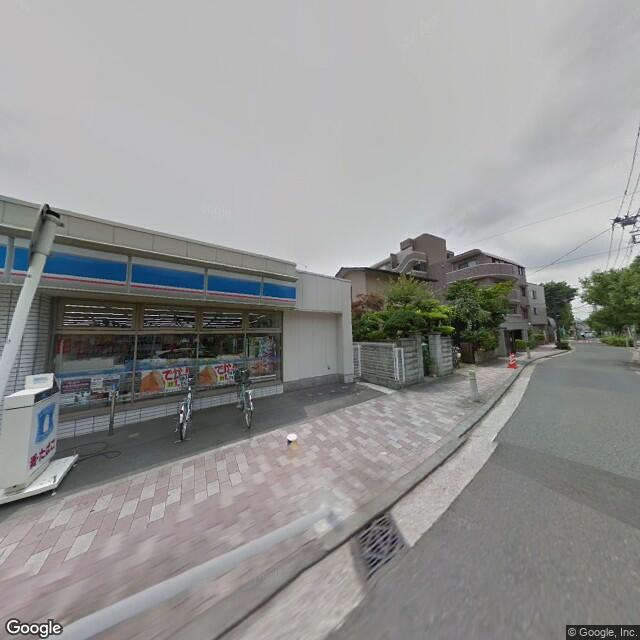lawson: (1, 230, 298, 313), (29, 396, 58, 443)
